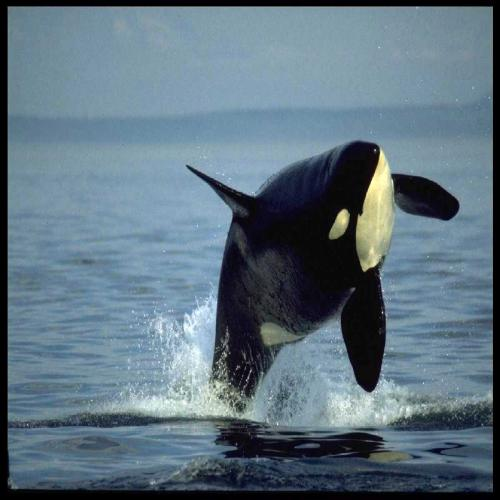killer_whale-endangered: (161, 110, 468, 421)
